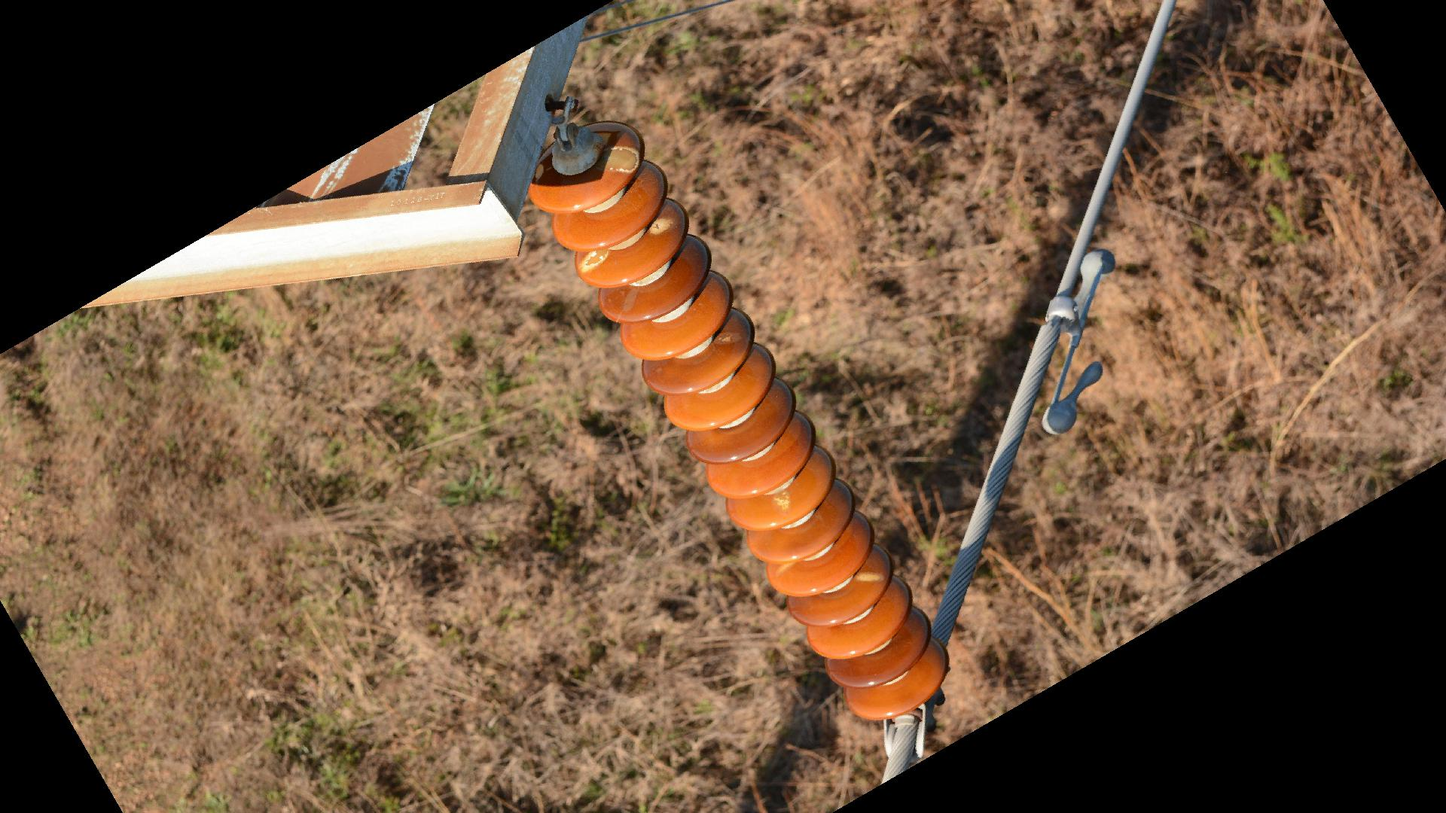insulator: (524, 115, 953, 730)
insulator_flashover: (597, 143, 640, 175), (575, 245, 611, 274), (645, 213, 676, 237), (853, 568, 887, 587), (770, 488, 795, 513)
